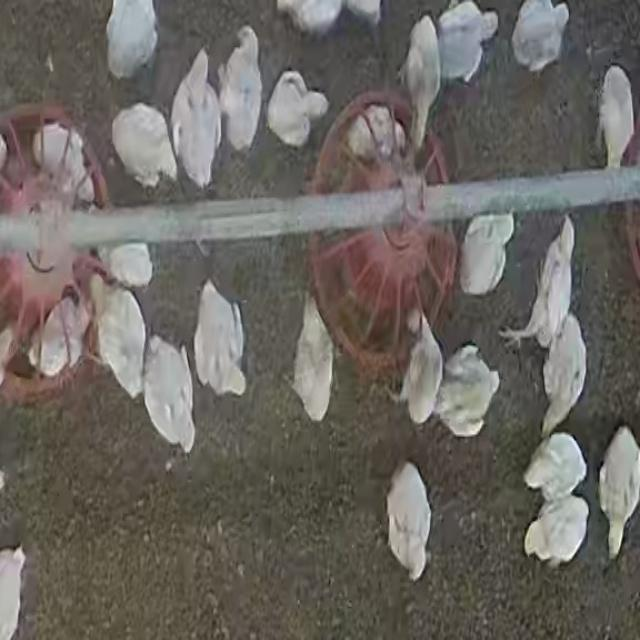chicken: (497, 216, 574, 349), (170, 47, 223, 186), (192, 280, 248, 399), (142, 335, 196, 454), (97, 281, 151, 399), (434, 346, 501, 438), (538, 313, 586, 440), (110, 104, 178, 191), (385, 459, 433, 582), (219, 26, 265, 154), (30, 121, 98, 207), (399, 14, 440, 156), (597, 426, 640, 561), (291, 294, 336, 422), (436, 1, 502, 88), (29, 290, 92, 380), (521, 493, 590, 568), (401, 307, 444, 427), (457, 213, 515, 297), (267, 71, 329, 149), (510, 0, 571, 76), (523, 430, 588, 500), (98, 209, 153, 290), (105, 0, 158, 83), (597, 65, 636, 167), (342, 105, 407, 166)
